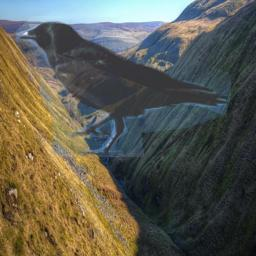Crow: (16, 16, 231, 157)
